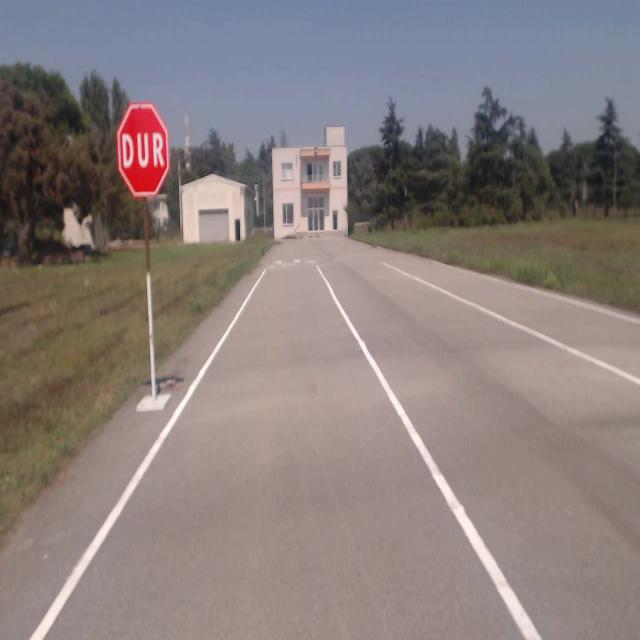dur: (118, 103, 168, 197)
